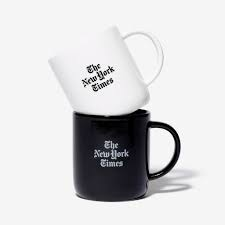mug: (51, 107, 196, 207), (36, 16, 173, 117)
